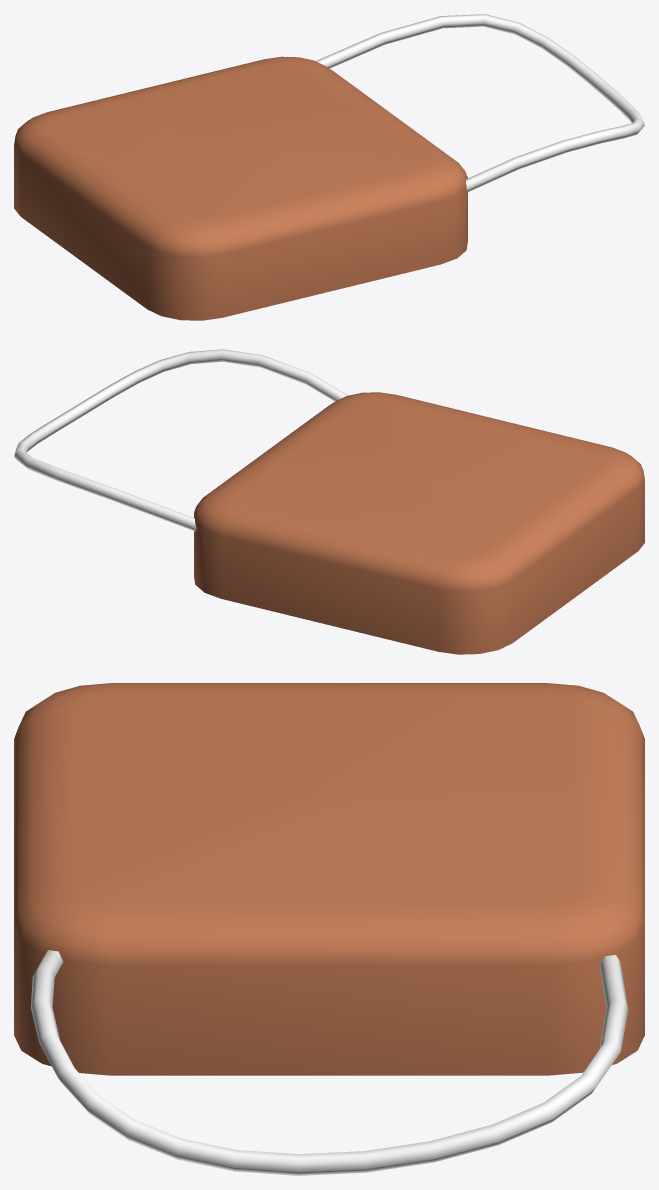
The model's file is reserveBox.glb.
3 views of the same model, one above another, from view 1: azimuth 30°, elevation 25°; view 2: azimuth 150°, elevation 25°; view 3: azimuth 270°, elevation 25° (orthographic). The views are drawn at different scales.
Visible parts, largest first — view 1: Cube, NurbsPath.002; view 2: Cube, NurbsPath.002; view 3: Cube, NurbsPath.002.
Boxes of the visible parts, <box> form: Cube: <box>14,56,467,320</box>; NurbsPath.002: <box>315,14,644,192</box>; Cube: <box>194,392,644,654</box>; NurbsPath.002: <box>14,349,348,531</box>; Cube: <box>14,683,644,1075</box>; NurbsPath.002: <box>31,950,628,1175</box>.
Bounding box in the file's own units: 0.9618 × 0.149 × 0.576.
